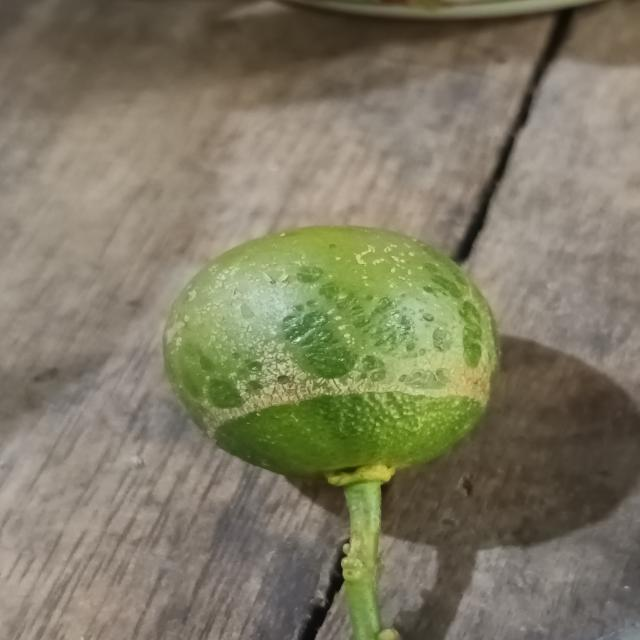thrips: (158, 222, 502, 484)
